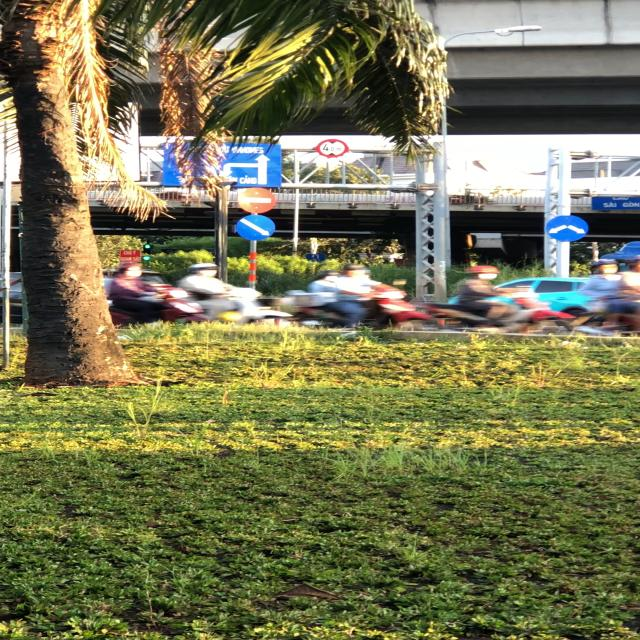Bien bao cam di nguoc chieu: (233, 183, 280, 213)
Bien bao han che chieu cao: (314, 138, 349, 158)
Bien bao huong phai di vong chuong ngai vat: (541, 212, 593, 242), (232, 212, 277, 242)
